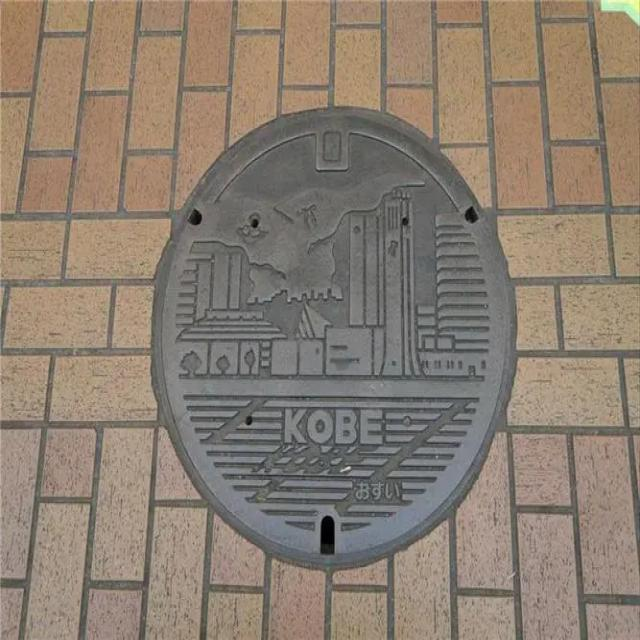manhole: (152, 108, 516, 569)
